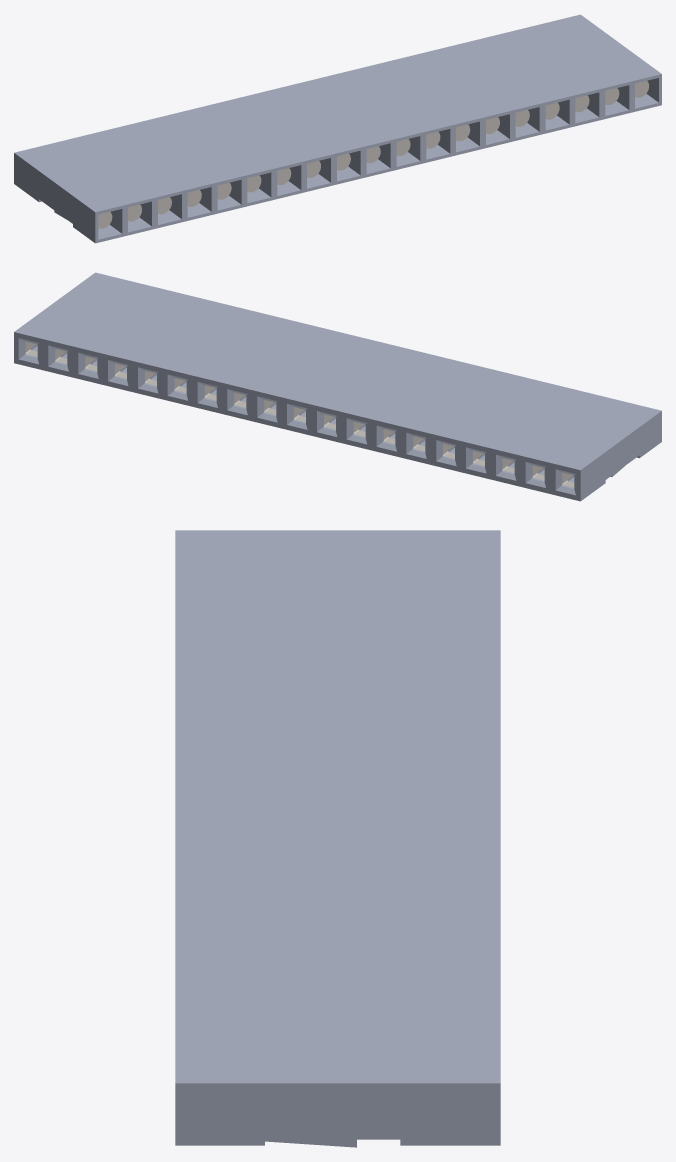
3 views of the same model, one above another, from view 1: azimuth 30°, elevation 25°; view 2: azimuth 150°, elevation 25°; view 3: azimuth 270°, elevation 25° (orthographic). The views are drawn at different scales.
Visible parts, largest first — view 1: DS1071-1x19; view 2: DS1071-1x19; view 3: DS1071-1x19.
Boxes of the visible parts, x1,y1,x2,y2 form: DS1071-1x19: (14, 14, 661, 243); DS1071-1x19: (14, 272, 661, 501); DS1071-1x19: (175, 530, 500, 1147).
Bounding box in the file's own units: 0.0115 × 0.000664 × 0.00286.
